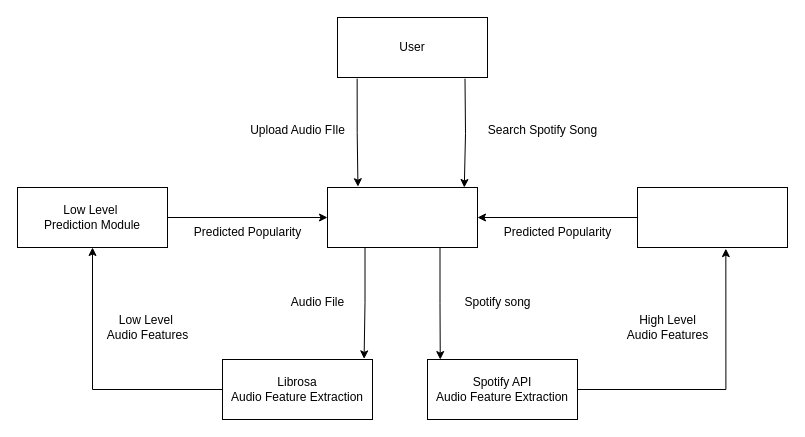
This 805x437 diagram has some shape labels left out. Here are the shapes that lost their labels. From the top down, the centre of each, then its label:
At [402,217]: "WAVEFORM".
At [712,217]: "High Level Prediction Module".
